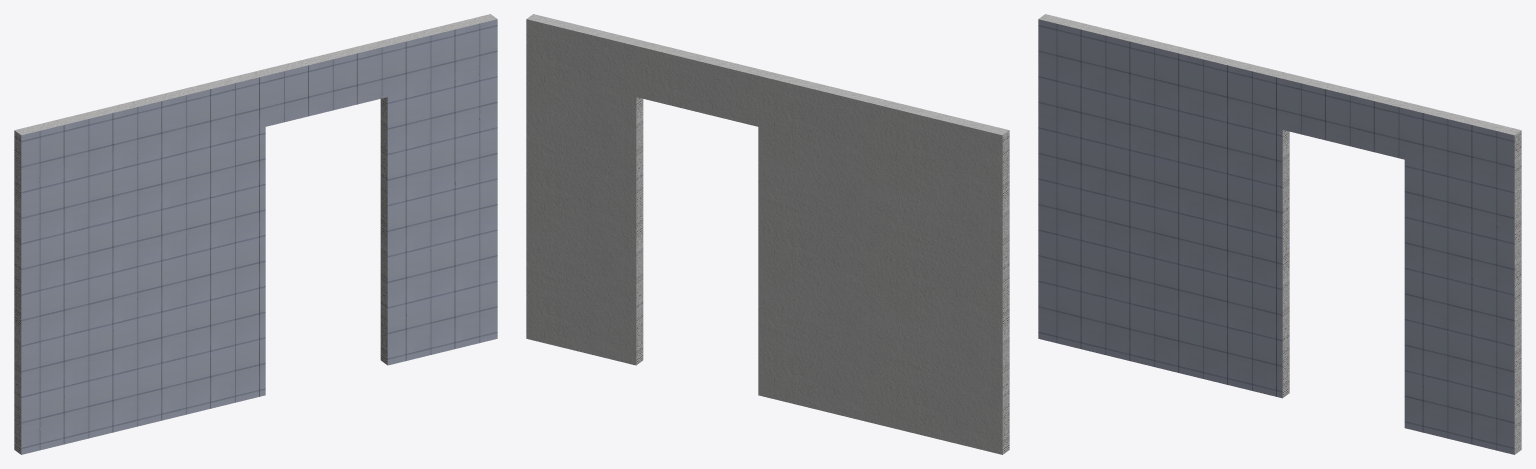
The model's file is wall_4.obj.
3 renders of one model, left to right at view 1: azimuth 30°, elevation 25°; view 2: azimuth 150°, elevation 25°; view 3: azimuth 330°, elevation 25°, orthographic.
Parts seen in each view (by area): view 1: polySurface1 wall_4; view 2: polySurface1 wall_4; view 3: polySurface1 wall_4.
Boxes of the visible parts, box(x1,y1,x2,y2) form: polySurface1 wall_4: box(14, 14, 497, 454); polySurface1 wall_4: box(526, 14, 1009, 454); polySurface1 wall_4: box(1038, 14, 1521, 454).
Bounding box in the file's own units: 3.9 × 2.5 × 0.1.
Materials: 2 (2 with a texture image).
